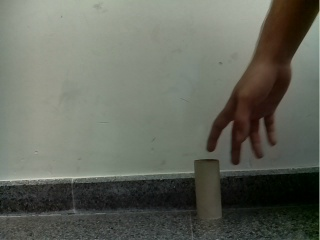rollo papel: (194, 159, 221, 220)
